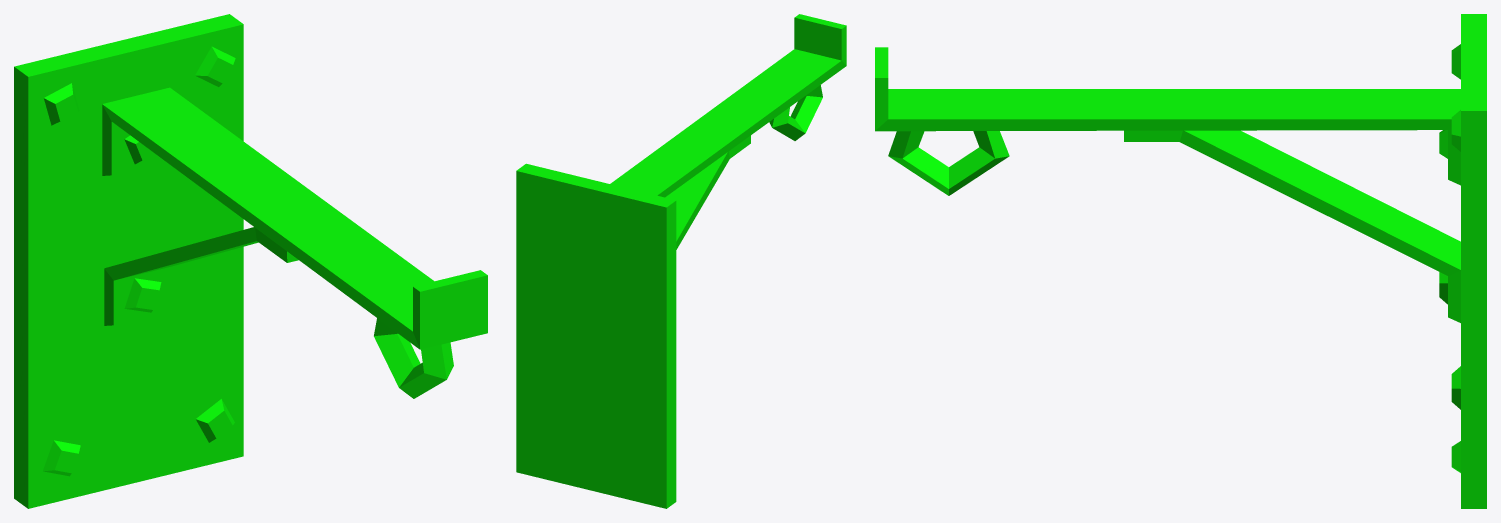
Rendered from SM_Lantern_Holder_Wall_A.fbx.
3 views of the same model, side by side, from view 1: azimuth 30°, elevation 25°; view 2: azimuth 150°, elevation 25°; view 3: azimuth 270°, elevation 25° (orthographic). The views are drawn at different scales.
Parts seen in each view (by area): view 1: lantern-holder-wall-a; view 2: lantern-holder-wall-a; view 3: lantern-holder-wall-a.
Boxes of the visible parts, x1=… form: lantern-holder-wall-a: x1=14, y1=14, x2=487, y2=508; lantern-holder-wall-a: x1=516, y1=14, x2=846, y2=508; lantern-holder-wall-a: x1=875, y1=14, x2=1486, y2=508.
Size of the model in its own units: 0.1725 by 0.3303 by 0.4602.
